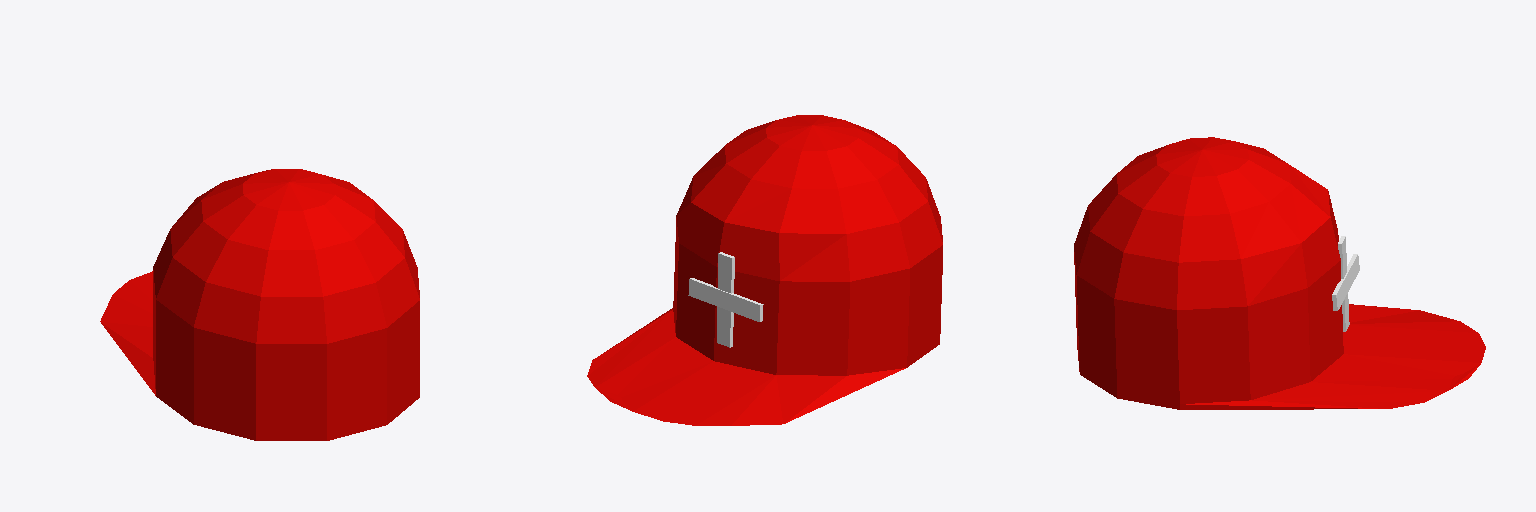
3 views of the same model, side by side, from view 1: azimuth 30°, elevation 25°; view 2: azimuth 150°, elevation 25°; view 3: azimuth 270°, elevation 25° (orthographic).
Parts seen in each view (by area): view 1: group[number redacted]; view 2: group[number redacted]; view 3: group[number redacted].
Boxes of the visible parts, <box> form: group[number redacted]: <box>100,169,419,440</box>; group[number redacted]: <box>587,115,942,425</box>; group[number redacted]: <box>1074,137,1485,409</box>.
Bounding box in the file's own units: 1.18 × 0.9664 × 1.74.